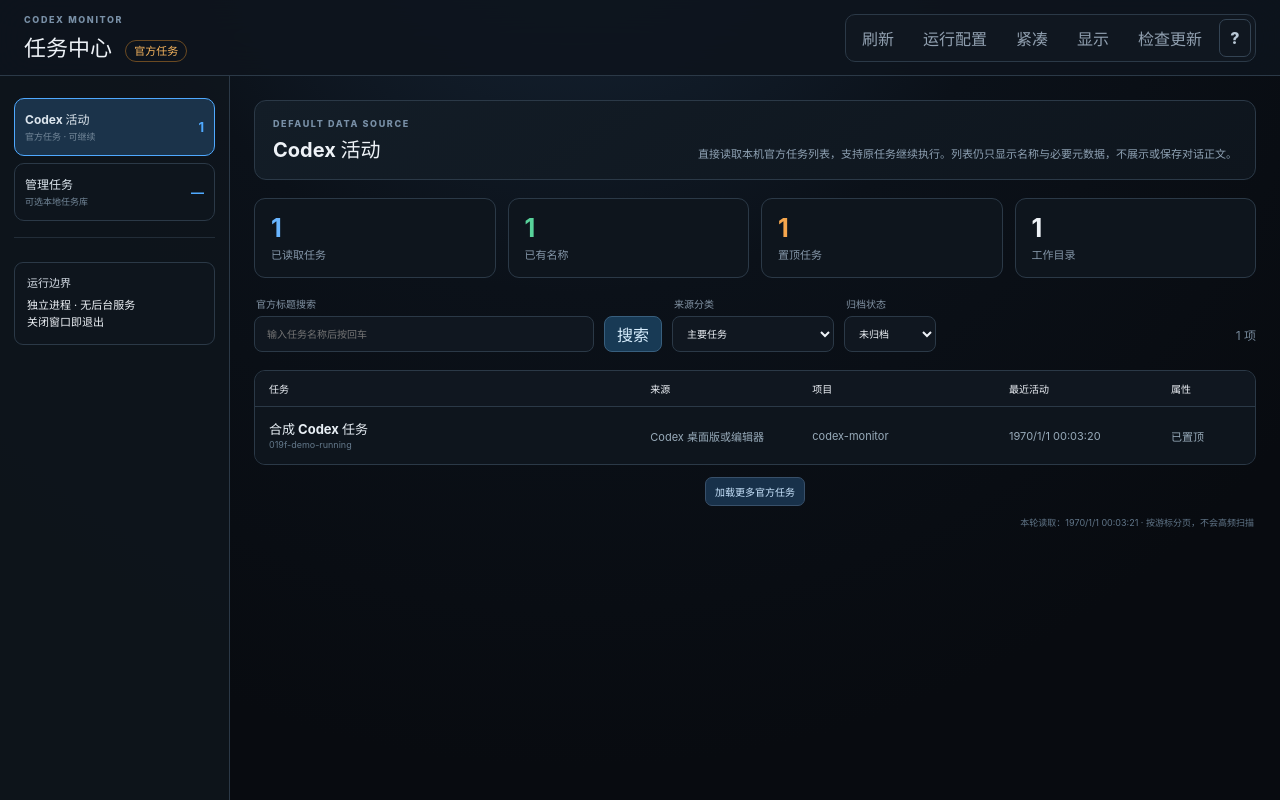
Test: 任务中心核心流程 › Codex 搜索、来源和归档都由官方列表接口重新查询
The width and height of the screenshot is (1280, 800).
Expected: the text "合成 Codex 任务" is shown, [269,421,368,437]
Type "监控" into the field with placeholder "输入任务名称后按回车" at (424, 334), box [254,316,594,352]
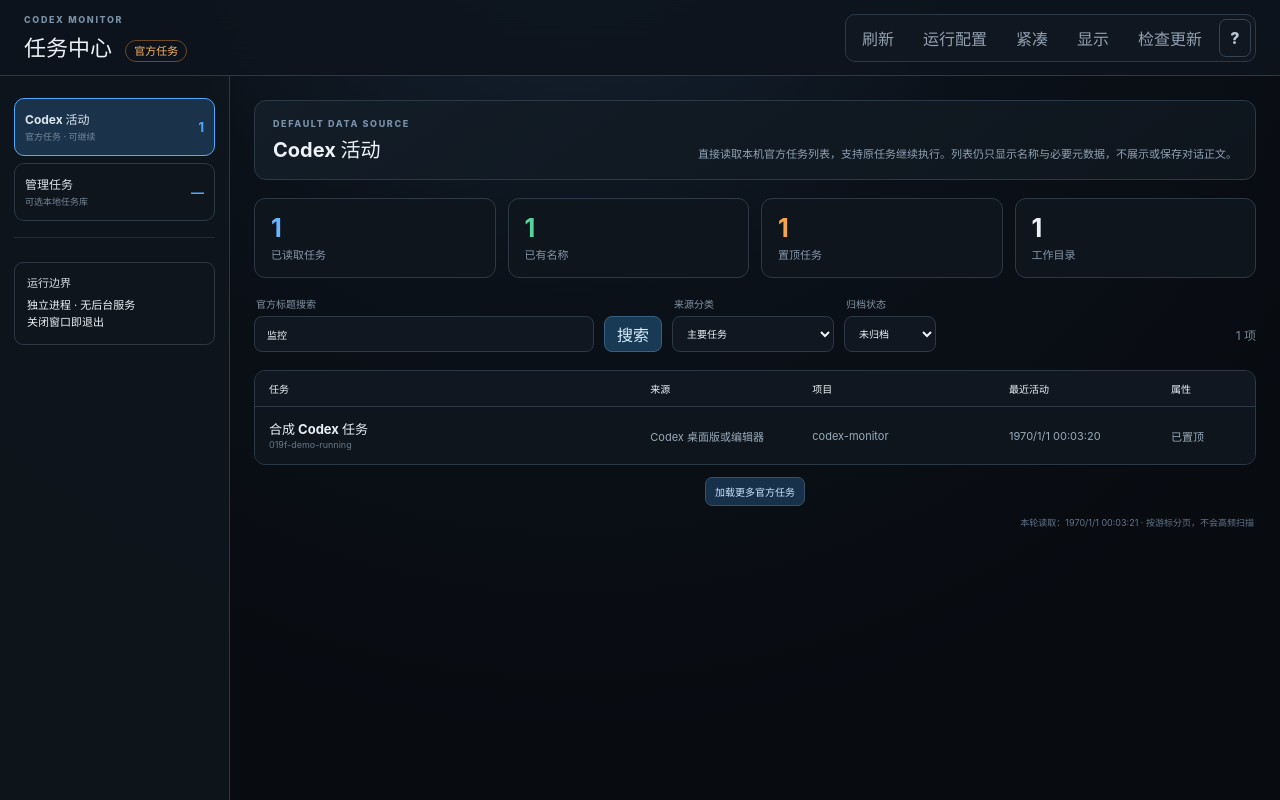
Click the button "搜索" at (633, 334), box [604,316,662,352]
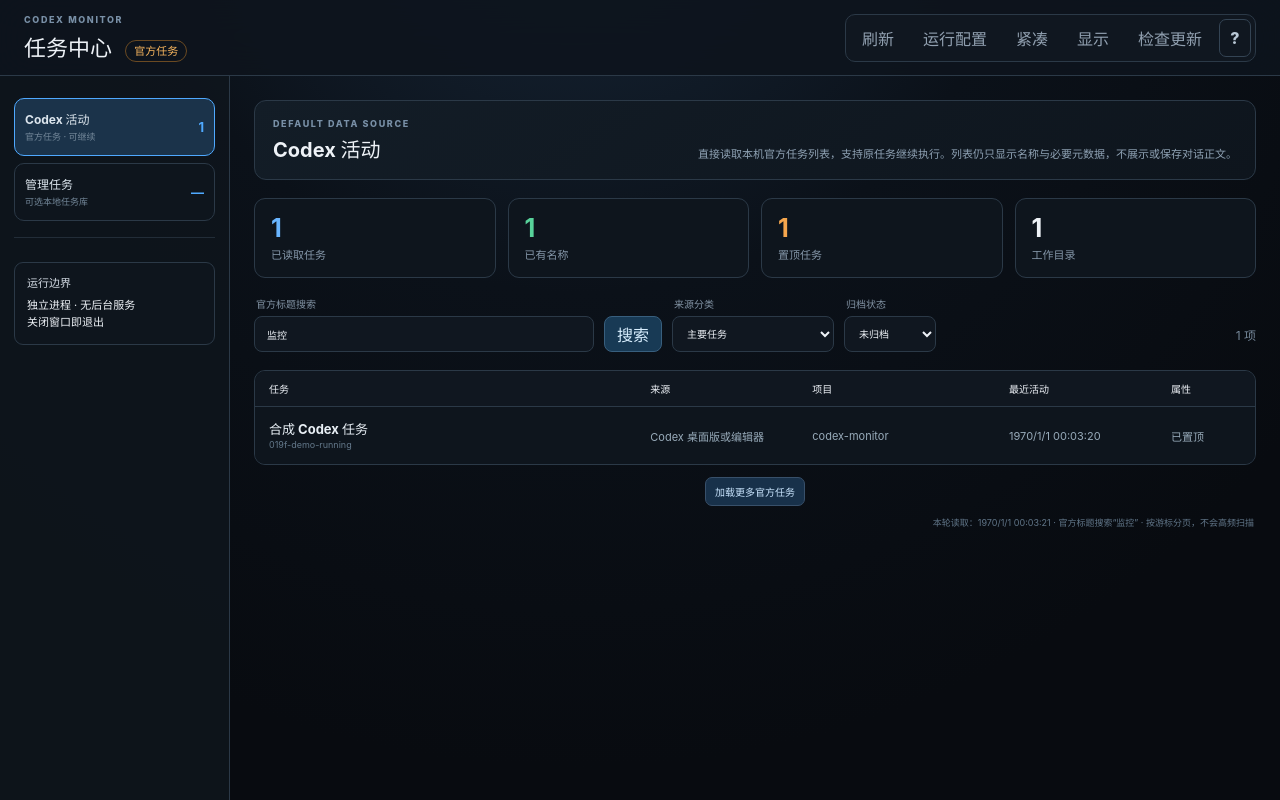
Select "子智能体" in the dropdown named "Codex 来源分类" at (753, 334), box [672,316,834,352]
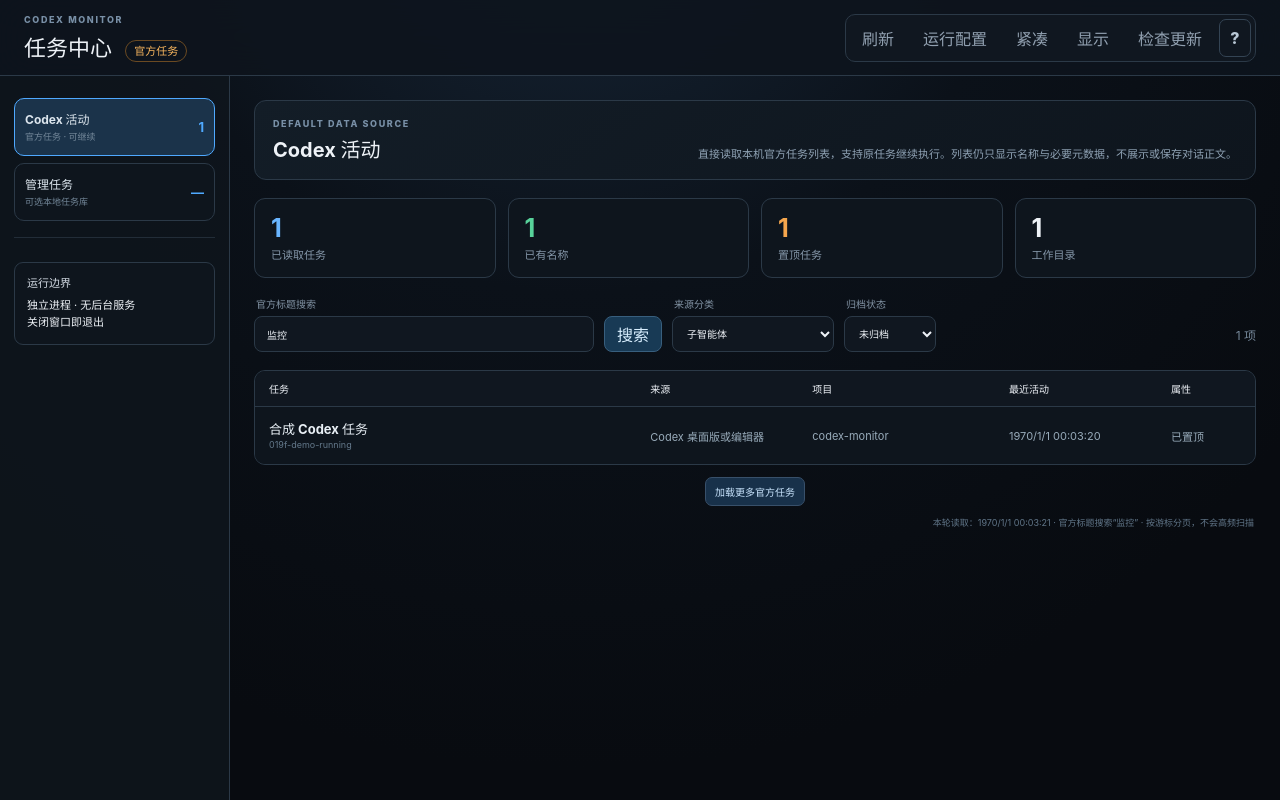
Select "已归档" in the dropdown named "Codex 归档状态" at (890, 334), box [844,316,936,352]
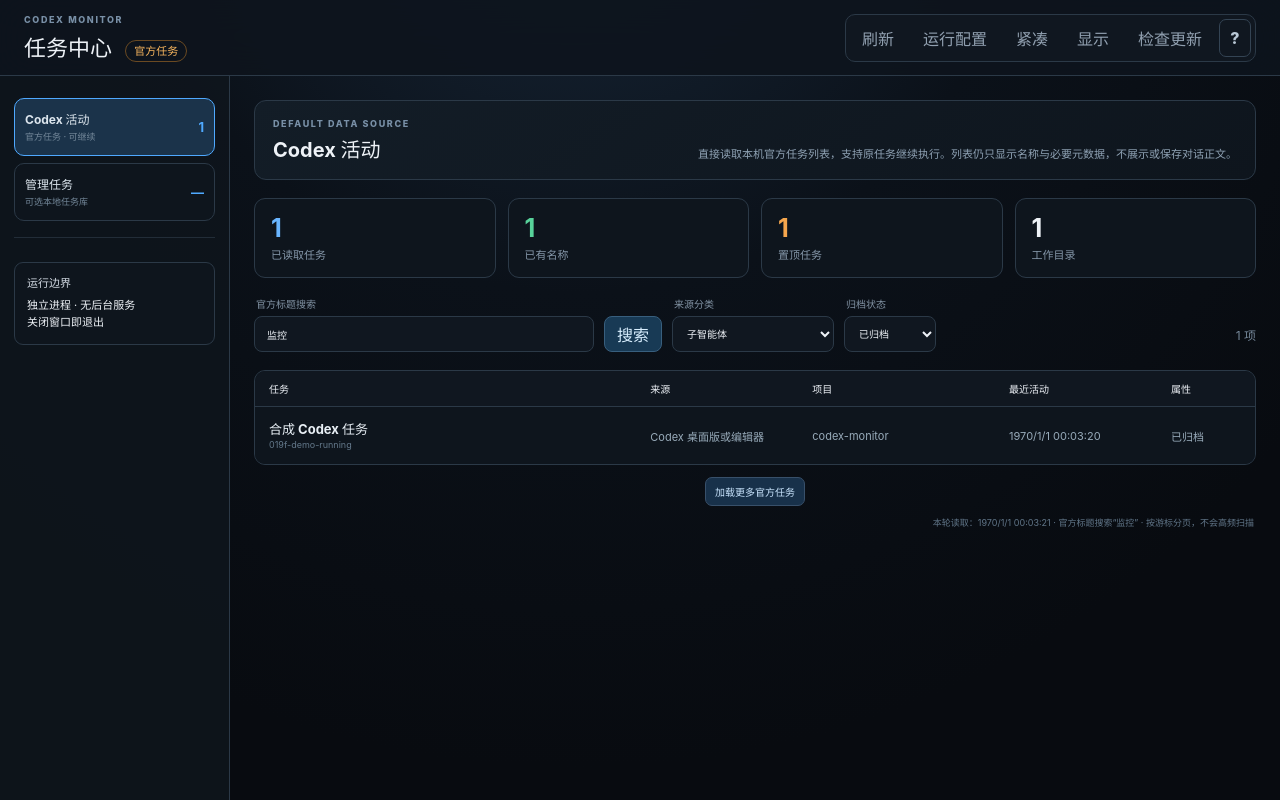
Result: the text "已归档" is shown at [1171,430,1204,444]
